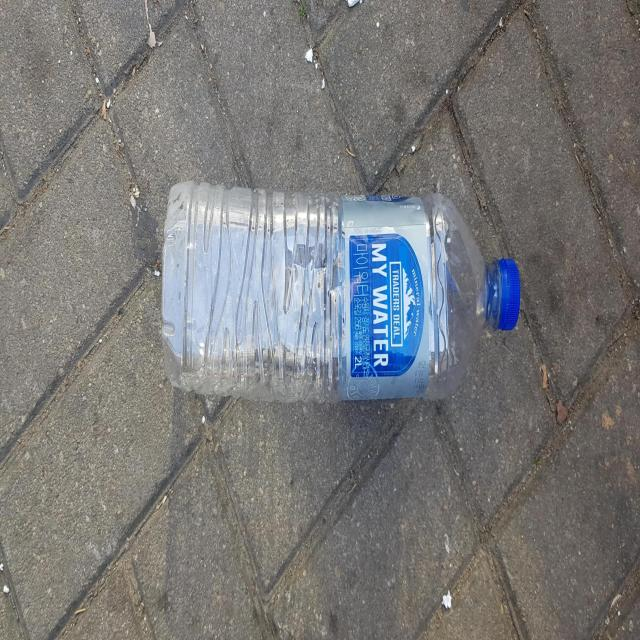plastic: (161, 180, 521, 401)
